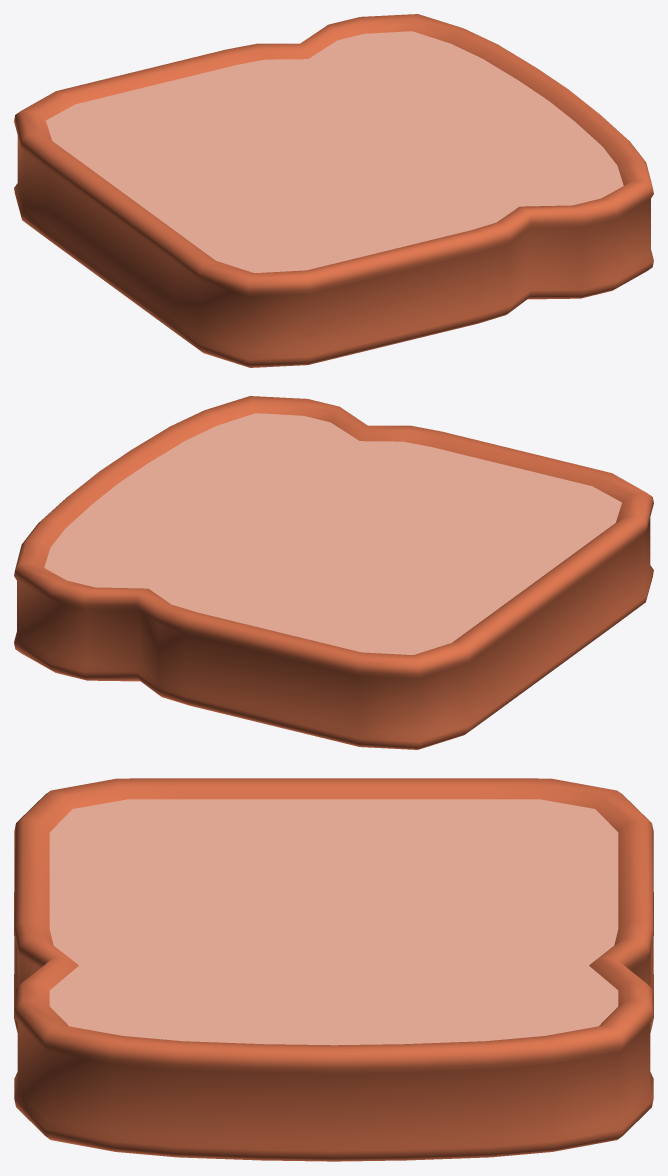
The model's file is Bread_Toast_V1_00.fbx.
3 renders of one model, top to bottom at view 1: azimuth 30°, elevation 25°; view 2: azimuth 150°, elevation 25°; view 3: azimuth 270°, elevation 25°, orthographic. The views are drawn at different scales.
Visible parts, largest first — view 1: Bread_Toast_V1_00; view 2: Bread_Toast_V1_00; view 3: Bread_Toast_V1_00.
Part boxes in pixels (bbox=[...]): Bread_Toast_V1_00: bbox=[14, 14, 653, 367]; Bread_Toast_V1_00: bbox=[14, 396, 653, 749]; Bread_Toast_V1_00: bbox=[14, 778, 653, 1161].
Bounding box in the file's own units: 41.85 × 7.71 × 40.44.
